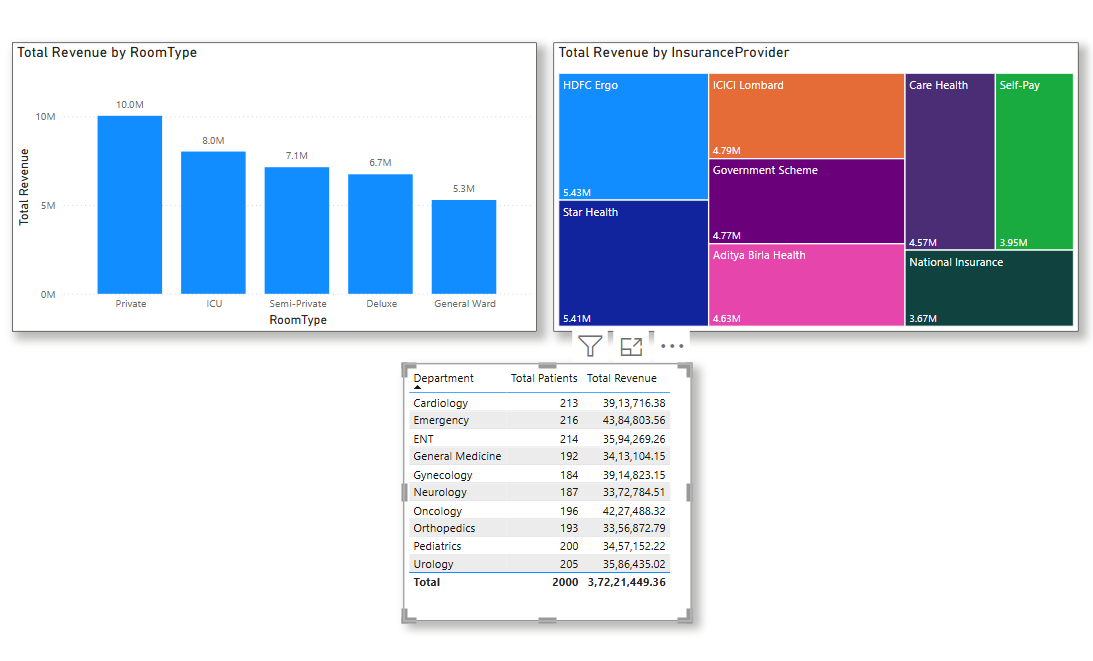

Layout of this report page (visuals, bound fields, positions):
{"tool":"powerbi","page":{"name":"Financial","canvas":[1280,780],"ordinal":1},"visuals":[{"type":"clusteredColumnChart","fields":{"Category":["healthcare_dataset (1).RoomType"],"Y":["healthcare_dataset (1).Total Revenue"]},"box":[13.2,51,614.2,338.3],"z":0},{"type":"treemap","fields":{"Group":["healthcare_dataset (1).InsuranceProvider"],"Values":["healthcare_dataset (1).Total Revenue"]},"box":[648.2,51,614.2,338.3],"z":1000},{"type":"tableEx","fields":{"Values":["healthcare_dataset (1).Department","healthcare_dataset (1).Total Patients","healthcare_dataset (1).Total Revenue"]},"box":[472.4,427.1,336.4,300.5],"z":2000}]}

Visuals, with their boxes in screenshot pixels (x1, y1, x2, y2), scaled from the page's 1280x780 canvas onto the 1093x661 screenshot:
clusteredColumnChart - healthcare_dataset (1).RoomType x healthcare_dataset (1).Total Revenue: 11/43/536/330
treemap - healthcare_dataset (1).InsuranceProvider x healthcare_dataset (1).Total Revenue: 554/43/1078/330
tableEx - healthcare_dataset (1).Department x healthcare_dataset (1).Total Patients: 403/362/691/617
